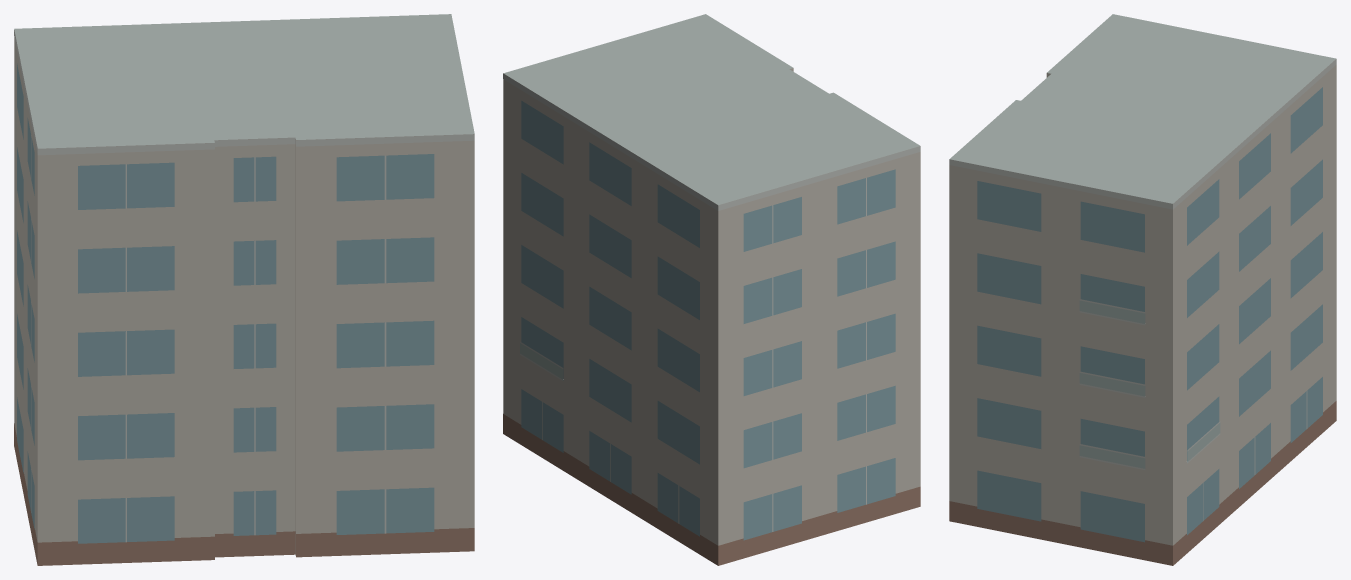
File: survey-upis-32525609.glb
The picture shows the model from 3 angles, left to right: view 1: azimuth 30°, elevation 25°; view 2: azimuth 150°, elevation 25°; view 3: azimuth 270°, elevation 25°; orthographic projection. The views are drawn at different scales.
Visible parts, largest first — view 1: survey-upis-32525609.tmp; view 2: survey-upis-32525609.tmp; view 3: survey-upis-32525609.tmp.
Boxes of the visible parts, <box> form: survey-upis-32525609.tmp: <box>14,14,474,565</box>; survey-upis-32525609.tmp: <box>503,14,920,565</box>; survey-upis-32525609.tmp: <box>949,14,1336,565</box>.
Bounding box in the file's own units: 17.16 × 15.25 × 14.79.
